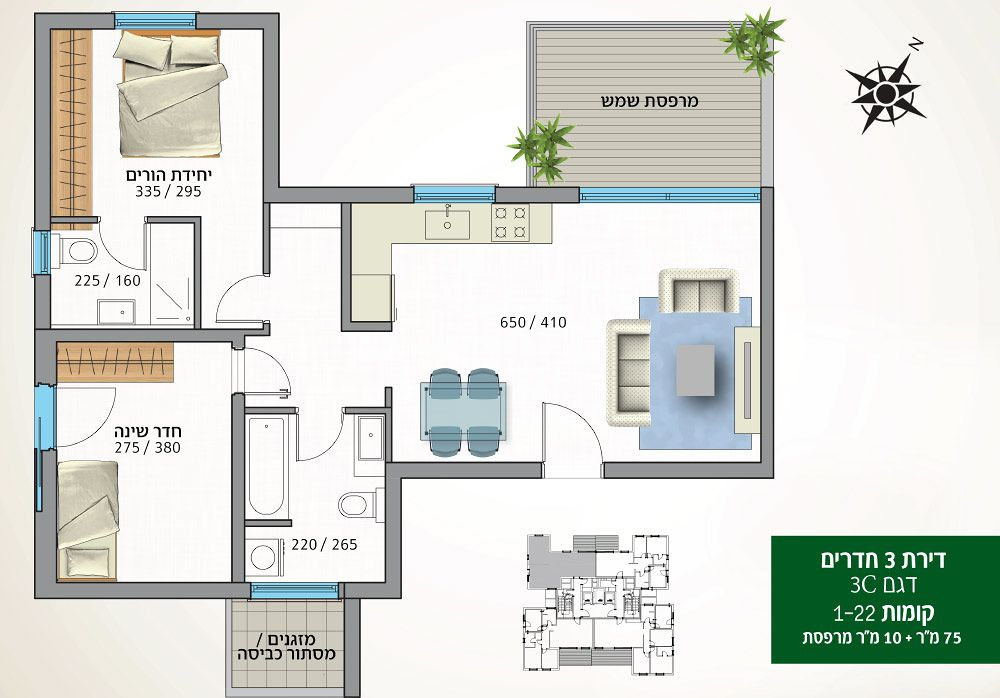door: (533, 393, 606, 459), (57, 383, 122, 453), (93, 228, 159, 284), (210, 270, 262, 327), (290, 418, 348, 464)
rd: (502, 516, 697, 688)
room: (34, 328, 245, 598), (36, 12, 279, 223), (230, 405, 402, 600), (33, 214, 202, 341)
wall: (760, 187, 774, 478), (263, 13, 280, 202), (37, 15, 50, 231), (263, 186, 415, 203), (605, 463, 774, 478), (386, 461, 401, 598)
window: (578, 188, 760, 203), (252, 582, 339, 599), (114, 13, 195, 28), (413, 186, 494, 201)
